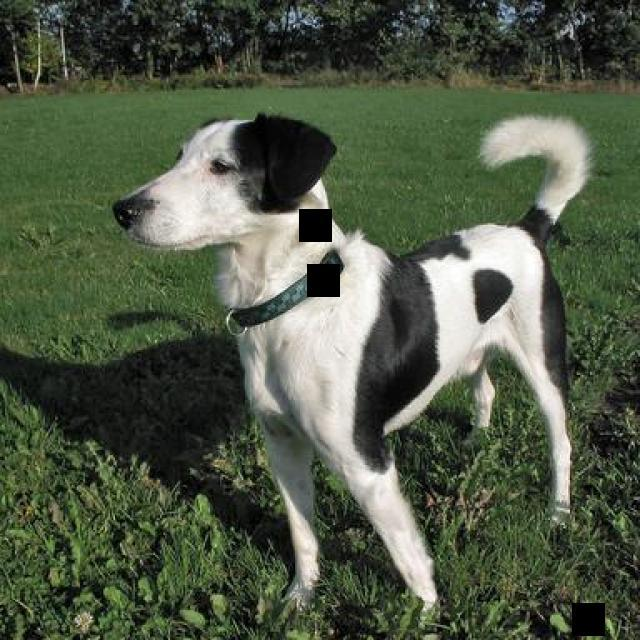adult_dog: (110, 106, 597, 632)
